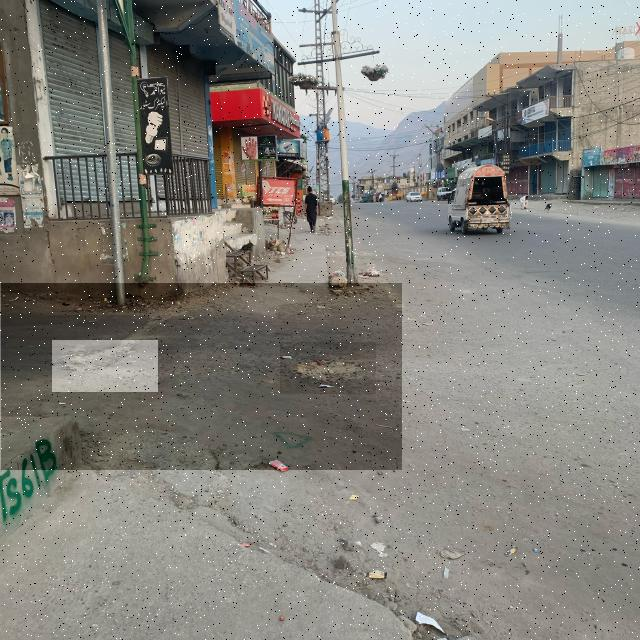damaged: (52, 340, 158, 392), (280, 342, 376, 394)
left: (1, 283, 402, 470)
